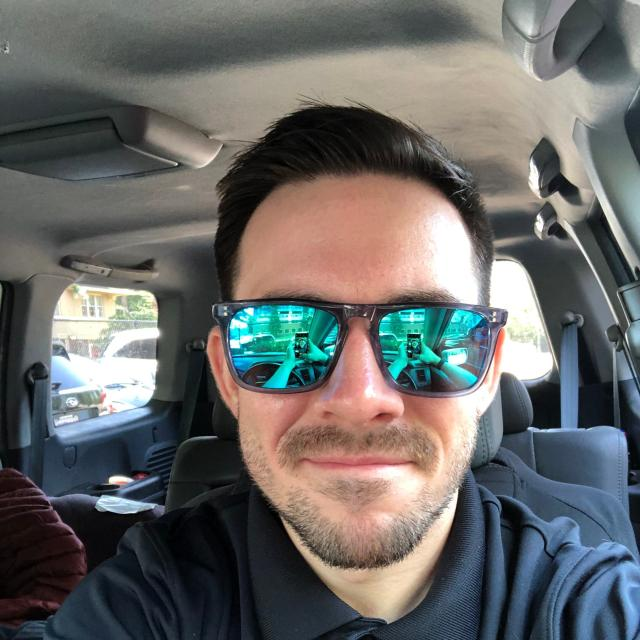2_gafas: (211, 296, 508, 398)
